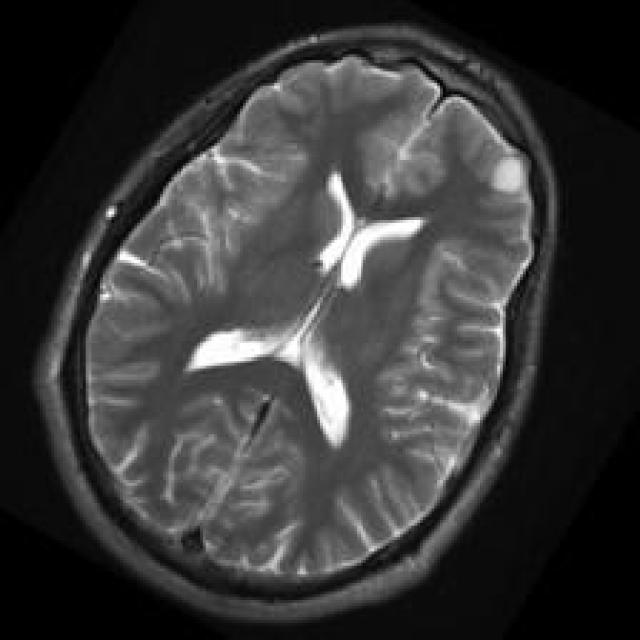no_tumor: (20, 9, 582, 640)
